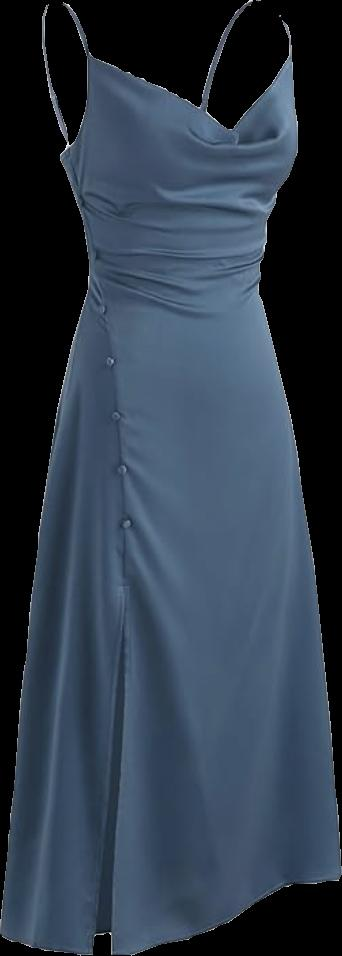Bodice: (60, 55, 297, 308)
Hemline: (0, 605, 341, 955)
Neckline: (82, 53, 297, 136)
Skirt: (0, 291, 340, 955)
